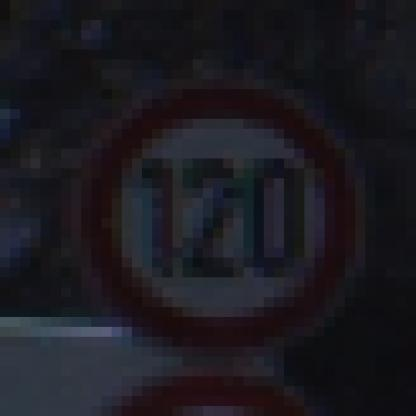Speed Limit 120: (88, 87, 356, 350)
